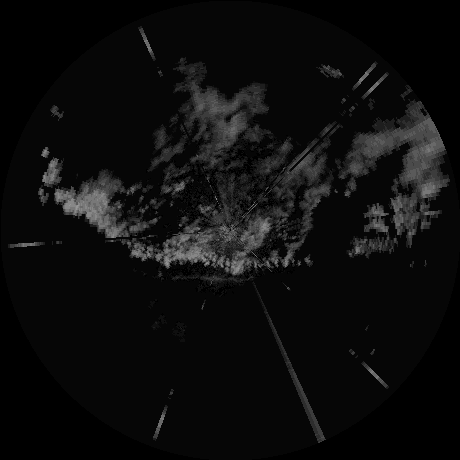frontgust: (172, 274, 253, 284)
